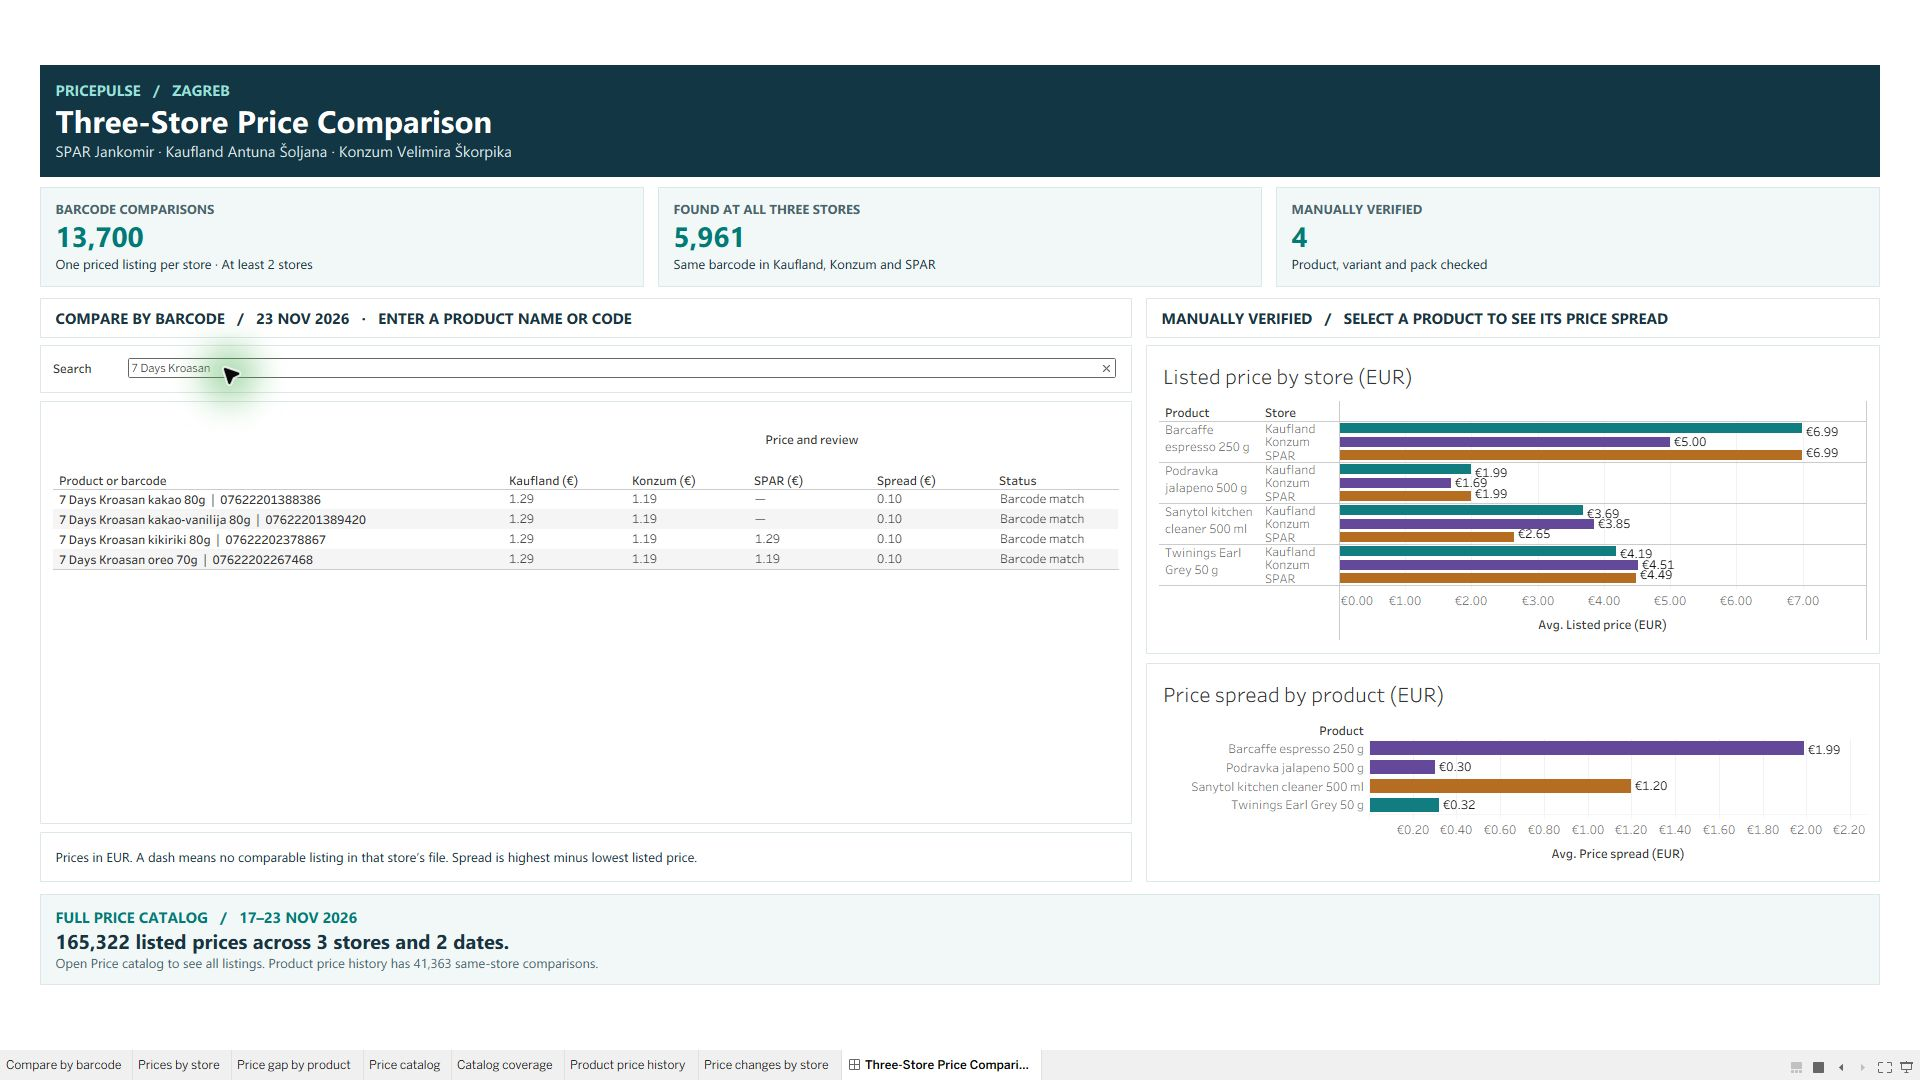

This screenshot's page, from the dashboard's own definition file:
{"tool":"tableau","page":{"name":"Three-Store Price Comparison","canvas":[1840,920],"ordinal":0},"visuals":[{"type":"text","box":[0,0,1840,112]},{"type":"text","box":[0,122,604,100]},{"type":"text","box":[618,122,604,100]},{"type":"text","box":[1236,122,604,100]},{"type":"text","box":[0,233,1092,40]},{"type":"text","box":[1106,233,734,40]},{"type":"filter","title":"Compare by barcode","param":"[federated.phase4_Comparar tiendas].[none:producto:nk]","box":[0,280,1092,48]},{"type":"worksheet","title":"Prices by store","mark":"Bar","rows":["producto","tienda"],"cols":["precio_eur"],"box":[1106,280,734,309]},{"type":"worksheet","title":"Compare by barcode","mark":"Text","rows":["producto"],"cols":["indicador"],"box":[0,336,1092,423]},{"type":"worksheet","title":"Price gap by product","mark":"Bar","rows":["producto"],"cols":["brecha_eur"],"box":[1106,598,734,219]},{"type":"text","box":[0,767,1092,50]},{"type":"text","box":[0,829,1840,91]}]}

Visuals, with their boxes on the page's 1840x920 design canvas (x1, y1, x2, y2). These are canvas units, not pixel positions in the 1920x1080 screenshot, which may show the page scaled, cropped or inside an application window:
text: BBox(0, 0, 1840, 112)
text: BBox(0, 122, 604, 222)
text: BBox(618, 122, 1222, 222)
text: BBox(1236, 122, 1840, 222)
text: BBox(0, 233, 1092, 273)
text: BBox(1106, 233, 1840, 273)
"Compare by barcode" filter: BBox(0, 280, 1092, 328)
"Prices by store" worksheet (Bar marks): BBox(1106, 280, 1840, 589)
"Compare by barcode" worksheet (Text marks): BBox(0, 336, 1092, 759)
"Price gap by product" worksheet (Bar marks): BBox(1106, 598, 1840, 817)
text: BBox(0, 767, 1092, 817)
text: BBox(0, 829, 1840, 920)
